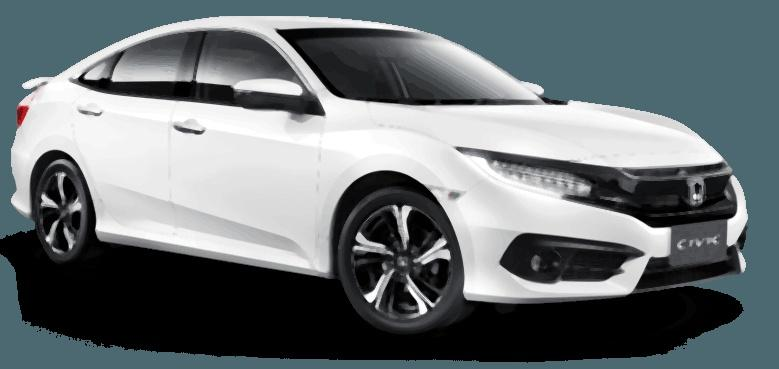Car hood: (359, 98, 732, 168)
Driver-s door - -F-R-: (172, 18, 328, 255)
Fender - -F-R-: (317, 81, 487, 279)
Fender - -R-R-: (22, 86, 106, 247)
Front bumper: (451, 181, 753, 301)
Headlight - -R-: (449, 143, 598, 207)
Passenger-s door - -R-R-: (59, 17, 186, 241)
Rear bumper: (8, 147, 47, 226)
Rear light - -R-: (11, 86, 39, 128)
Side bumper - -R-: (86, 211, 340, 286)
Side mirror - -L-: (511, 73, 547, 103)
Side mirror - -R-: (223, 73, 319, 127)
